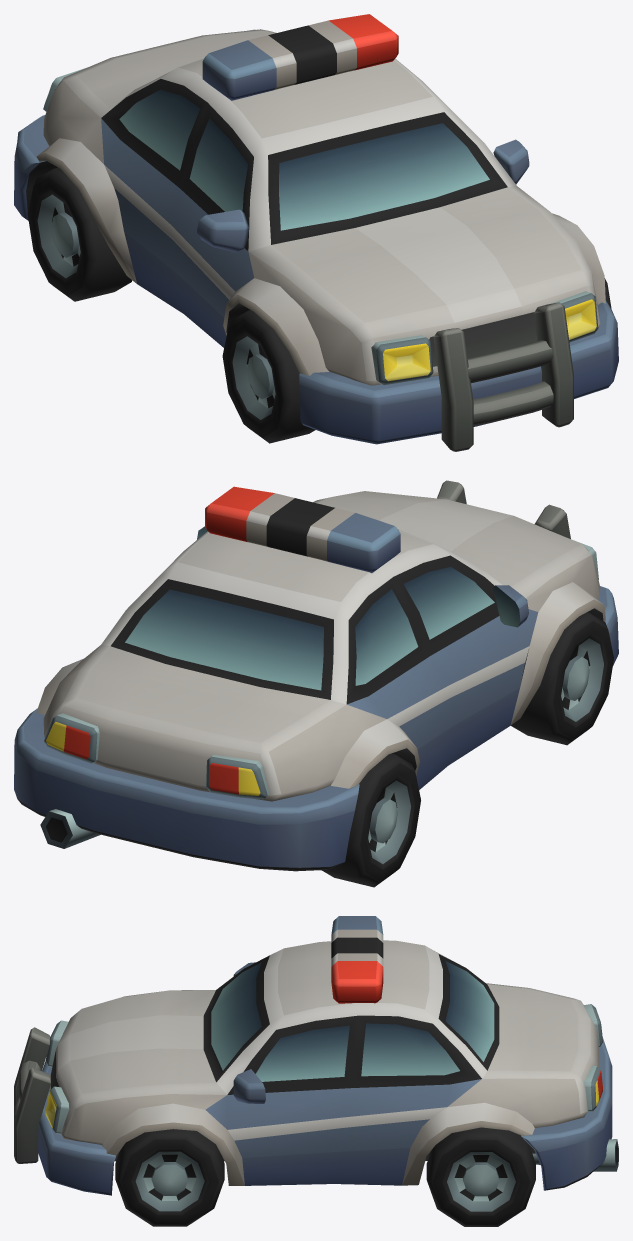
File: police_car.fbx
3 views of the same model, one above another, from view 1: azimuth 30°, elevation 25°; view 2: azimuth 150°, elevation 25°; view 3: azimuth 270°, elevation 25° (orthographic). The views are drawn at different scales.
Parts seen in each view (by area): view 1: car_police, wheel_car_back, wheel_car_front_right; view 2: car_police, wheel_car_front_right, wheel_car_back; view 3: car_police, wheel_car_back, wheel_car_front_left.
Boxes of the visible parts, x1,y1,x2,y2 form: car_police: (14, 14, 618, 451); wheel_car_back: (27, 167, 132, 301); wheel_car_front_right: (222, 310, 315, 443); car_police: (14, 480, 618, 871); wheel_car_front_right: (511, 612, 613, 745); wheel_car_back: (321, 753, 420, 887); car_police: (14, 916, 618, 1195); wheel_car_back: (426, 1127, 535, 1226); wheel_car_front_left: (115, 1129, 224, 1226).
Bounding box in the file's own units: 250 × 194 × 486.
1 material, 1 textured.
